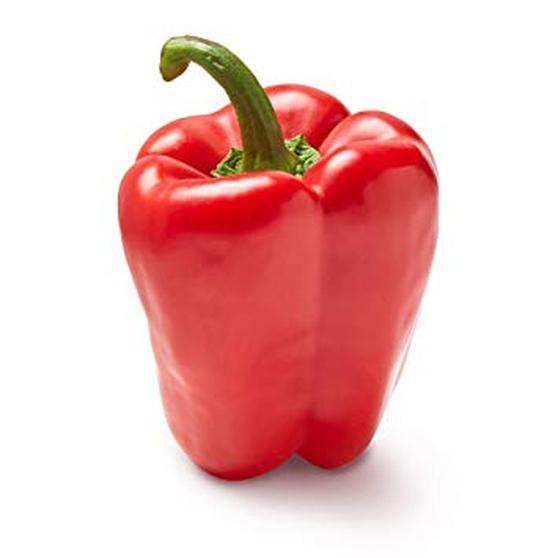pepper: (118, 33, 450, 486)
